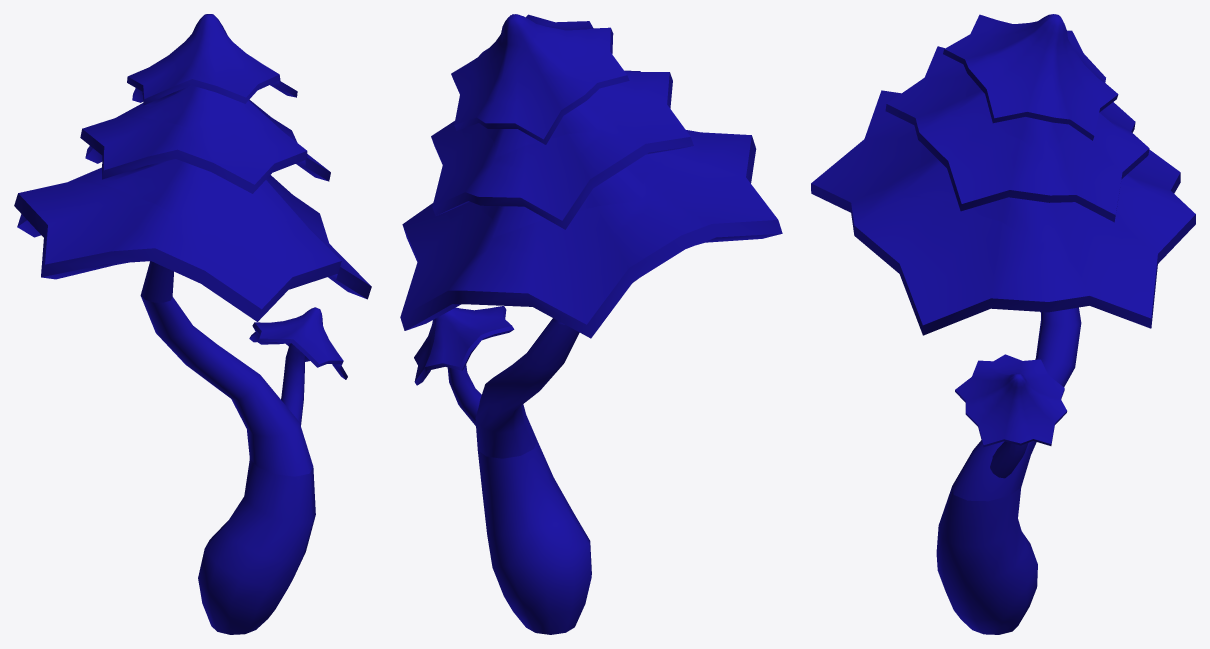
File: SM_Cut_StarlightMushroom_01.fbx
3 views of the same model, side by side, from view 1: azimuth 30°, elevation 25°; view 2: azimuth 150°, elevation 25°; view 3: azimuth 270°, elevation 25° (orthographic). The views are drawn at different scales.
Parts seen in each view (by area): view 1: SM_Piece_002, SM_Piece_004, SM_Piece_001, SM_Piece_000, SM_Piece_003; view 2: SM_Piece_002, SM_Piece_004, SM_Piece_003, SM_Piece_000, SM_Piece_001; view 3: SM_Piece_002, SM_Piece_004, SM_Piece_003, SM_Piece_001, SM_Piece_000.
Part boxes in pixels (x1,y1,x2,y2): SM_Piece_002: [14, 177, 371, 321]; SM_Piece_004: [78, 114, 330, 222]; SM_Piece_001: [141, 296, 347, 476]; SM_Piece_000: [198, 459, 315, 634]; SM_Piece_003: [122, 14, 297, 128]; SM_Piece_002: [400, 130, 782, 338]; SM_Piece_004: [431, 70, 693, 237]; SM_Piece_003: [451, 14, 629, 158]; SM_Piece_000: [477, 440, 591, 634]; SM_Piece_001: [414, 306, 579, 458]; SM_Piece_002: [811, 90, 1195, 335]; SM_Piece_004: [885, 46, 1149, 246]; SM_Piece_003: [943, 14, 1118, 157]; SM_Piece_001: [952, 307, 1081, 501]; SM_Piece_000: [936, 486, 1037, 634].
Bounding box in the file's own units: 58.92 × 104 × 59.13.
